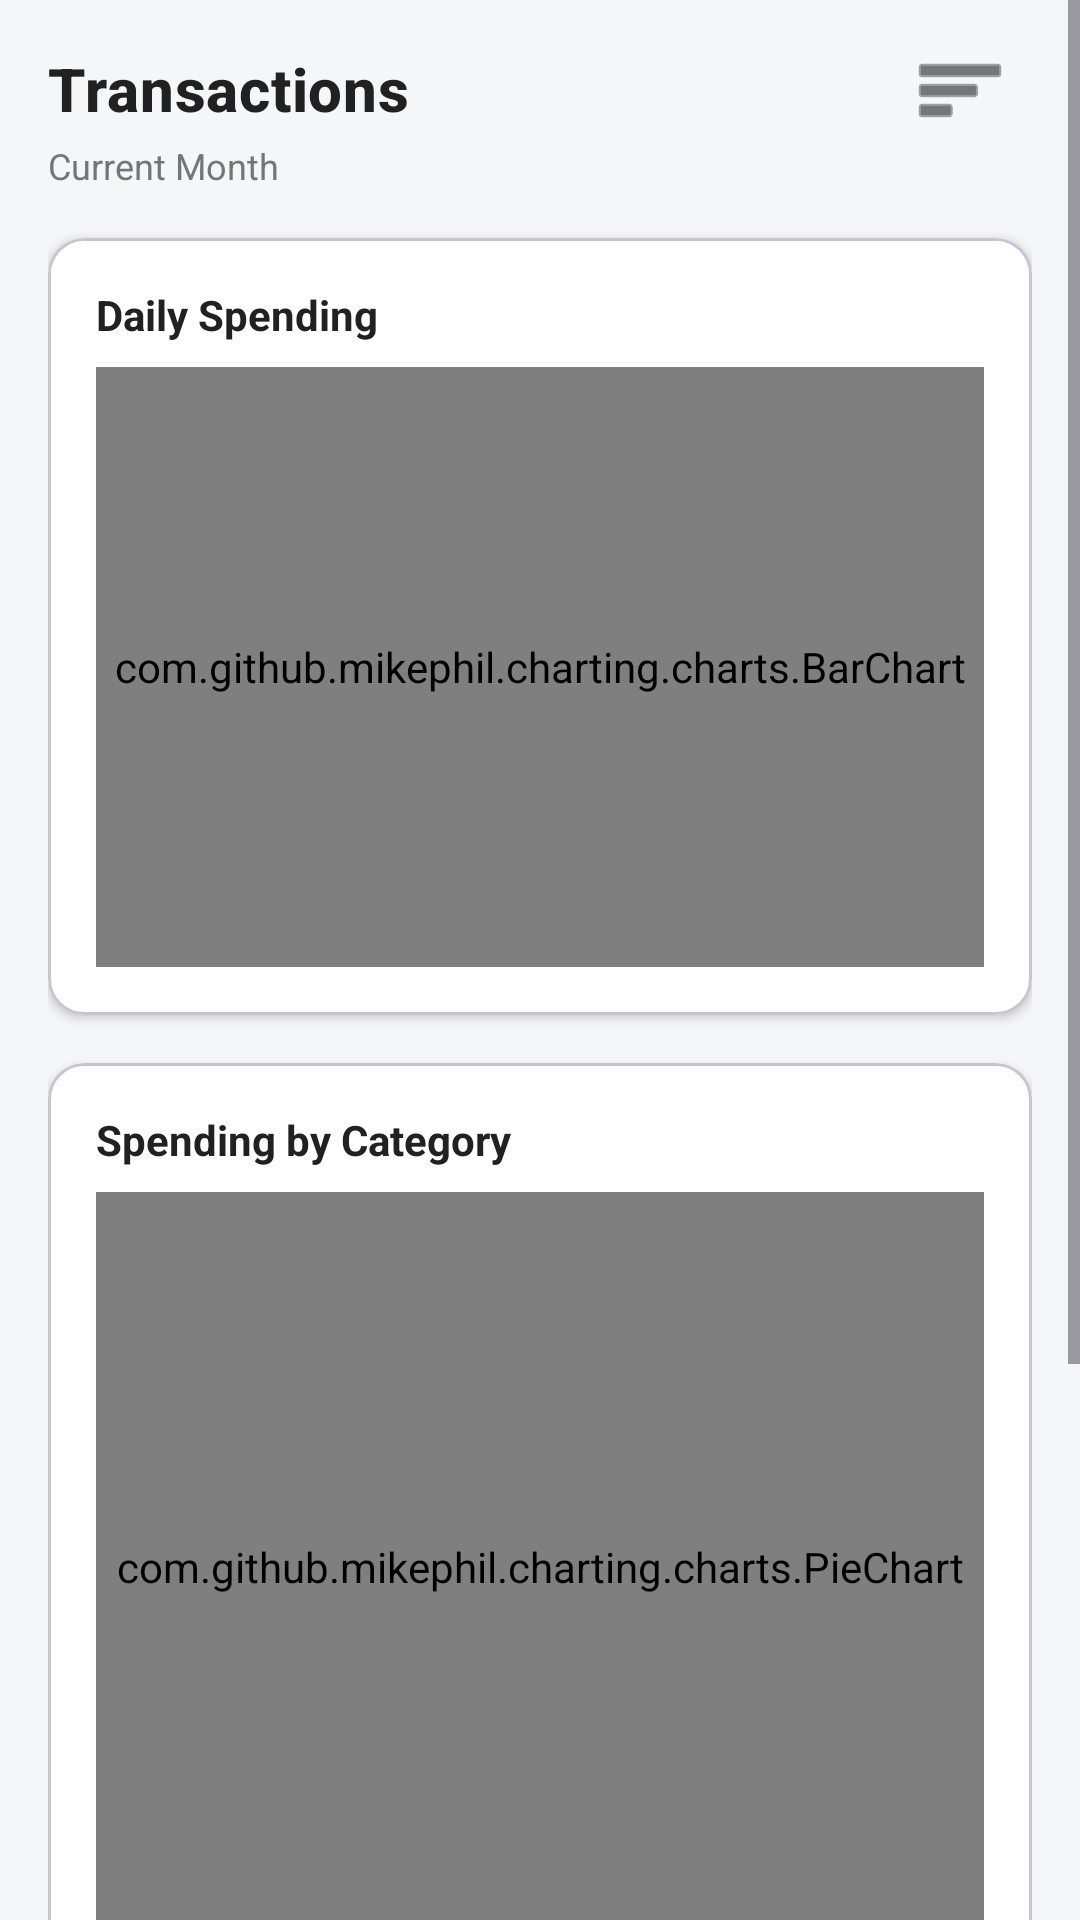

Locate icon controls on the screen. Image size 1080 x 1920, boxes as bbox(x1, y1, x2, y2).
Filter: bbox(919, 64, 1001, 117)
